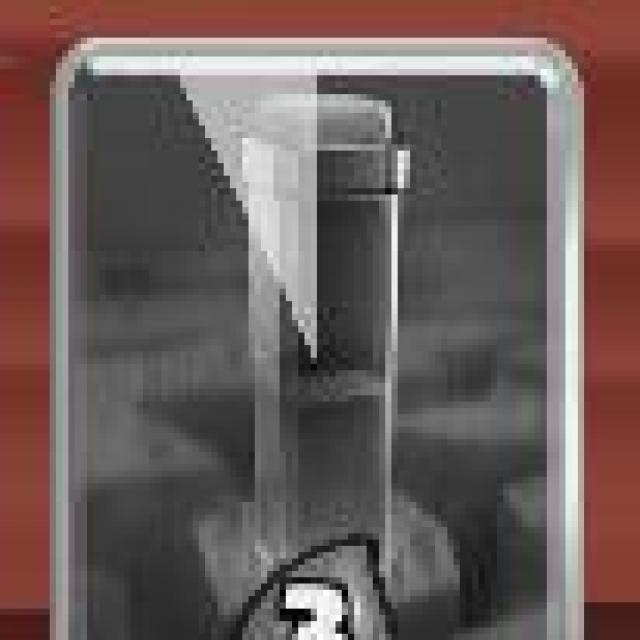Earthquake: (47, 37, 582, 640)
